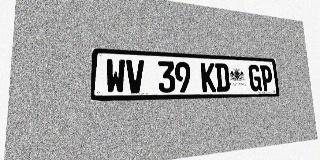3: (158, 61, 175, 93)
9: (175, 61, 191, 92)
D: (215, 63, 230, 92)
G: (248, 65, 262, 91)
K: (200, 63, 216, 92)
P: (260, 65, 273, 91)
V: (126, 59, 145, 93)
W: (106, 59, 125, 93)
